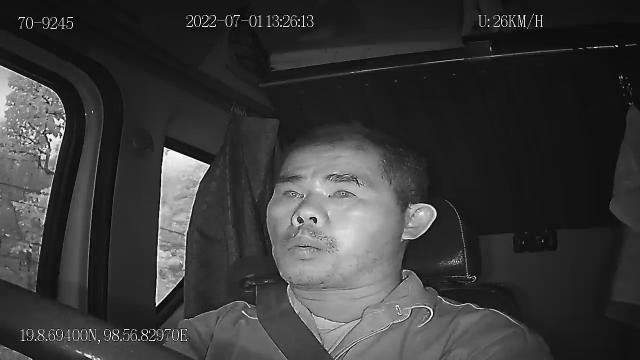SafeDriving: (322, 176, 362, 205), (275, 179, 308, 206)
Seatbelt: (233, 243, 338, 360)
